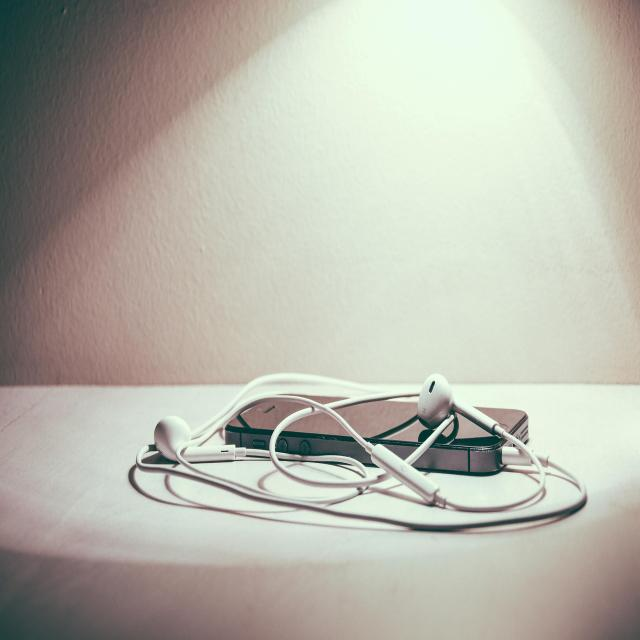Mobile: (211, 354, 556, 479)
